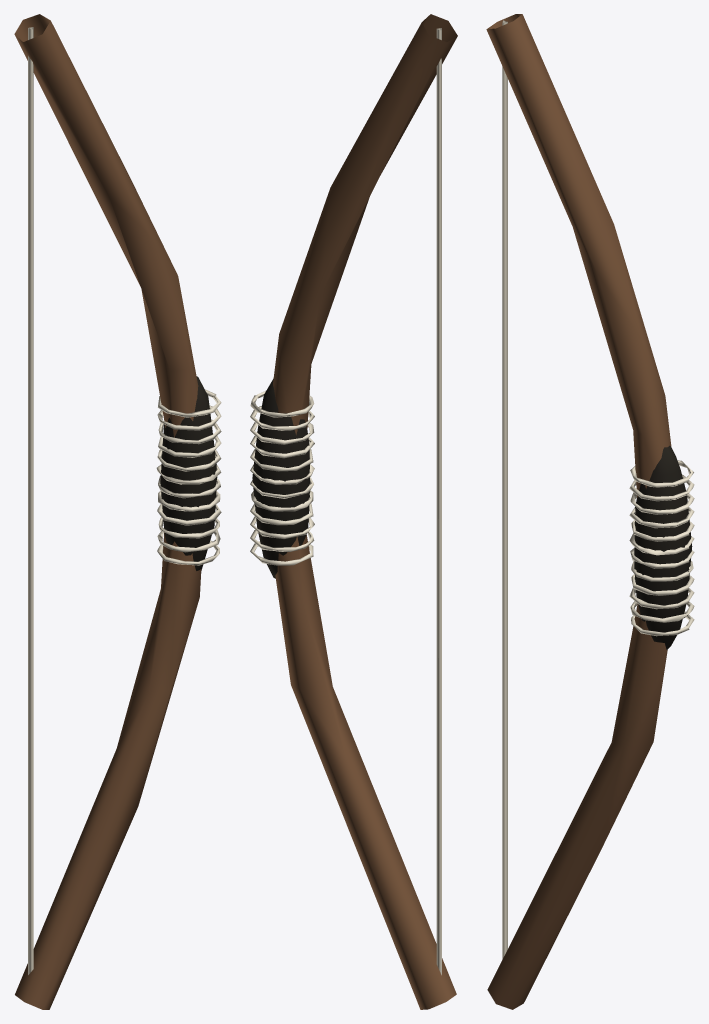
Rendered from bow.glb.
The picture shows the model from 3 angles, left to right: view 1: azimuth 30°, elevation 25°; view 2: azimuth 150°, elevation 25°; view 3: azimuth 330°, elevation 25°; orthographic projection.
Parts seen in each view (by area): view 1: bow limb, string, leather grip; view 2: bow limb, string, leather grip; view 3: bow limb, string, leather grip.
Part boxes in pixels (box(x1,y1,x2,y2)): bow limb: box(14, 14, 201, 1009); string: box(28, 27, 221, 974); leather grip: box(160, 376, 217, 570); bow limb: box(273, 14, 457, 1009); string: box(250, 28, 441, 975); leather grip: box(252, 378, 310, 578); bow limb: box(486, 14, 671, 1009); string: box(502, 20, 694, 959); leather grip: box(634, 445, 692, 649).
Bounding box in the file's own units: 0.2774 × 1.32 × 0.0776.
